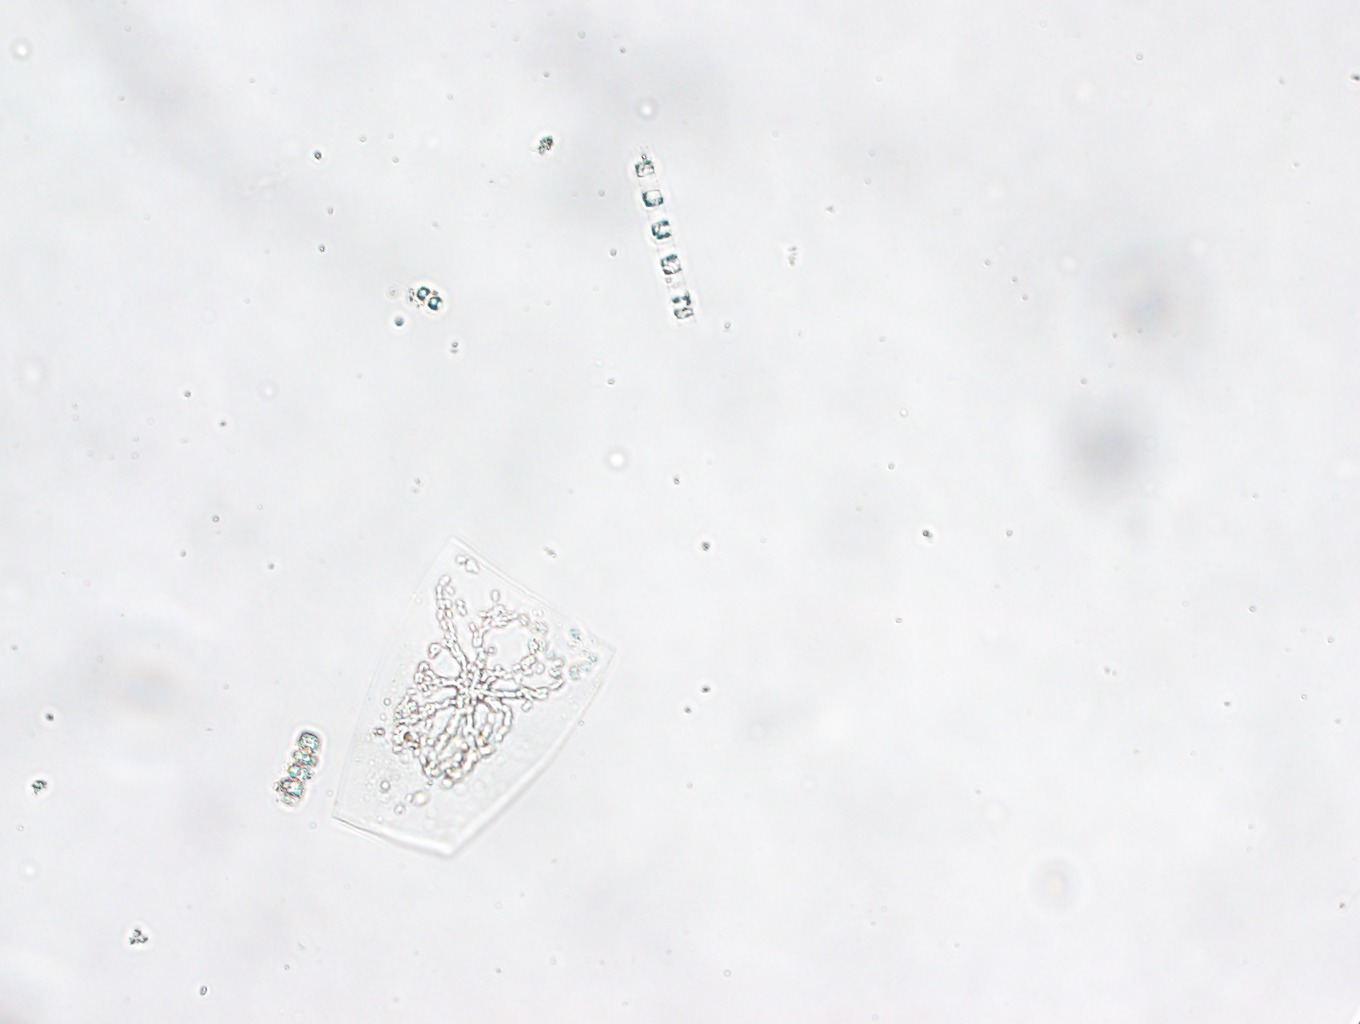helicotheca: (332, 540, 613, 861)
skeletonema: (632, 161, 699, 326), (281, 729, 323, 805)
